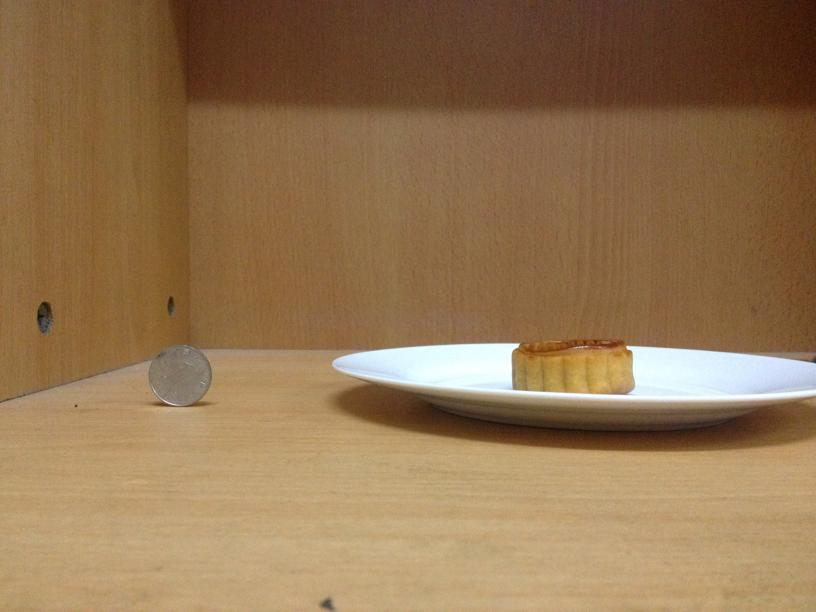coin: (148, 344, 211, 406)
mooncake: (513, 339, 632, 393)
